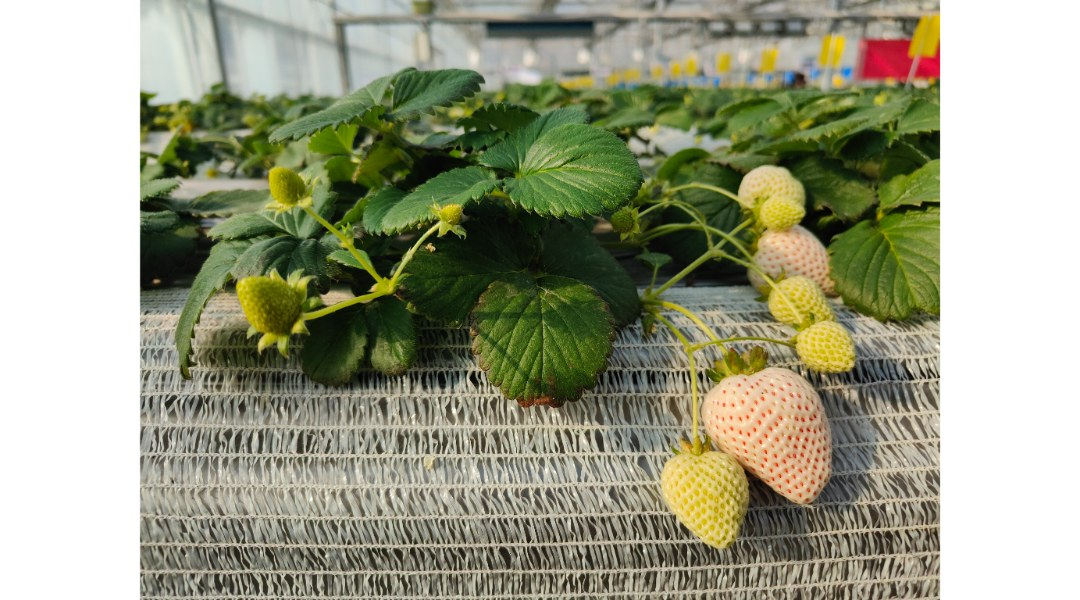berry: (697, 358, 846, 517), (656, 444, 750, 550), (744, 220, 852, 297), (218, 270, 321, 350), (785, 316, 871, 383), (762, 263, 832, 337), (734, 160, 820, 215), (759, 187, 805, 243), (265, 167, 311, 215), (432, 200, 468, 243)
strain: (657, 256, 703, 303), (397, 222, 436, 276), (312, 294, 377, 324), (676, 177, 738, 201), (685, 360, 702, 439), (307, 206, 338, 237), (354, 251, 383, 283), (660, 314, 688, 346)
